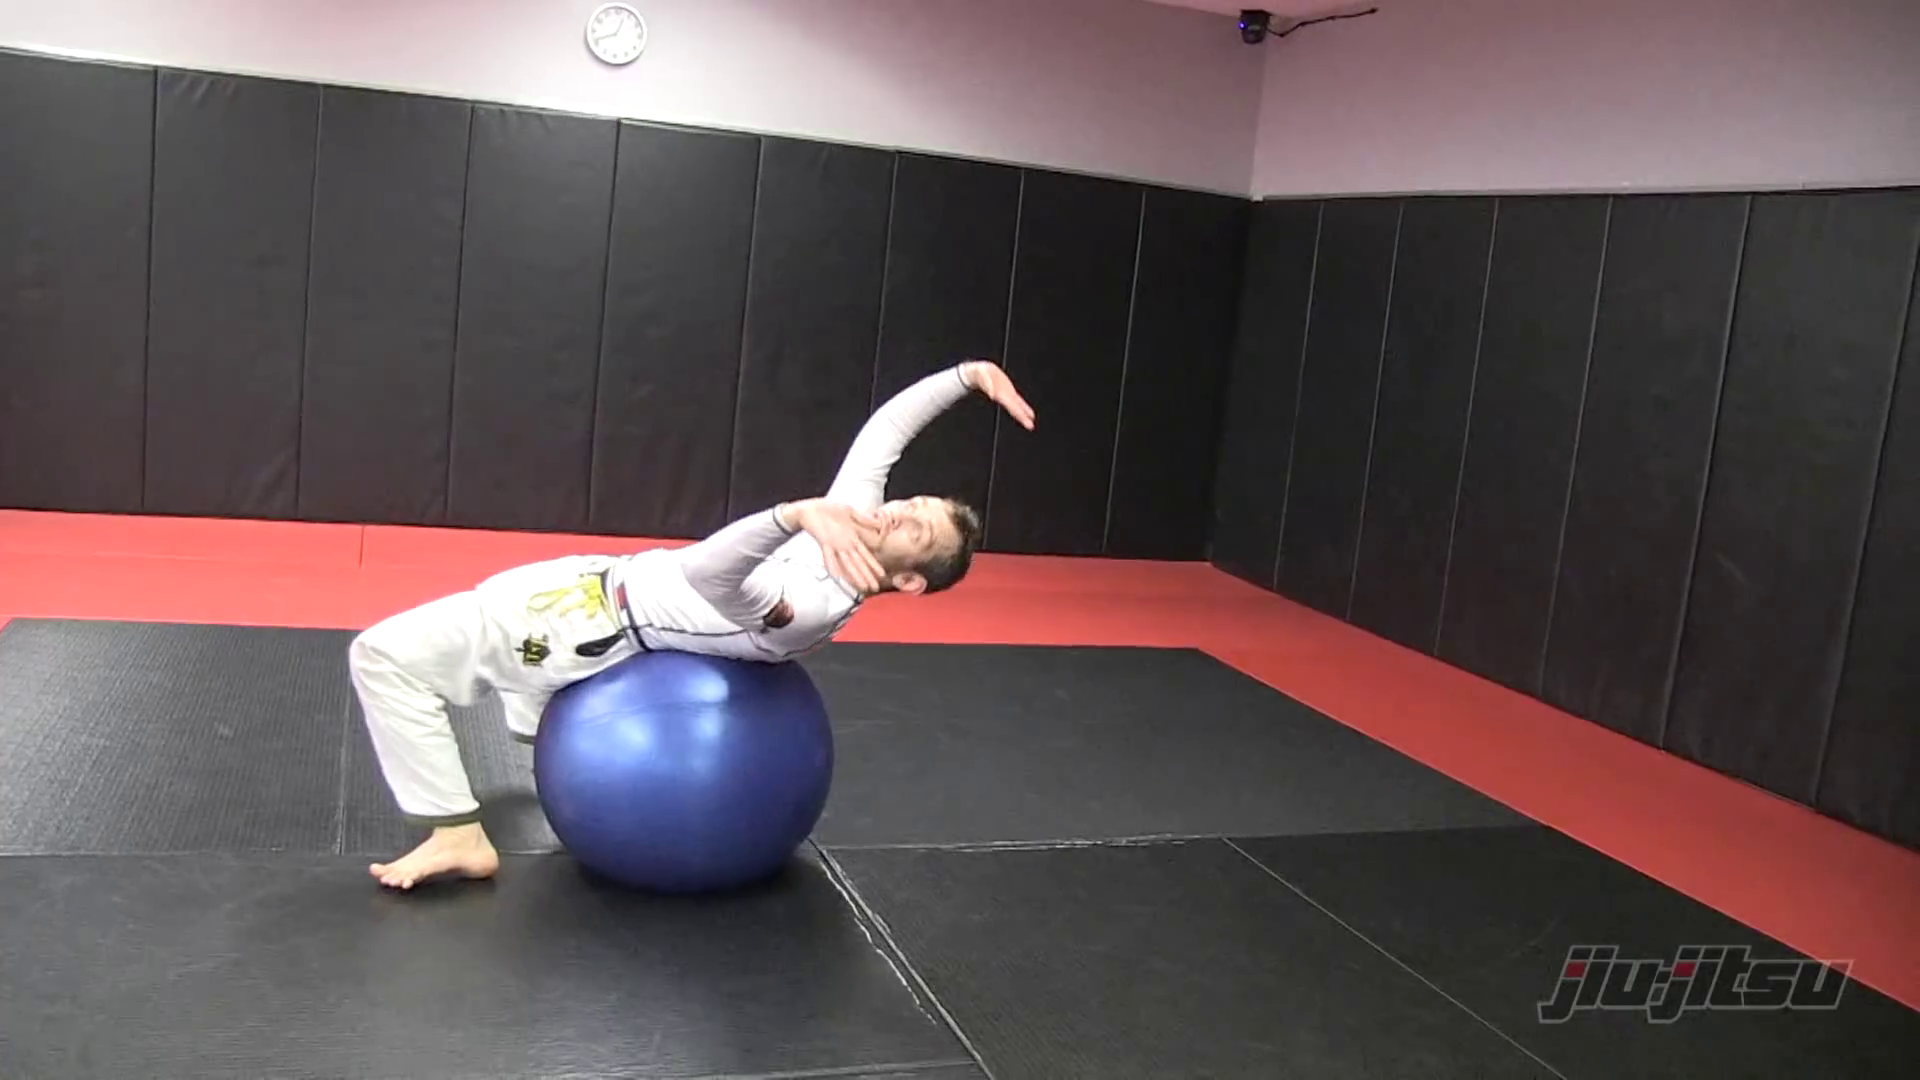yogaball: (520, 626, 847, 905)
